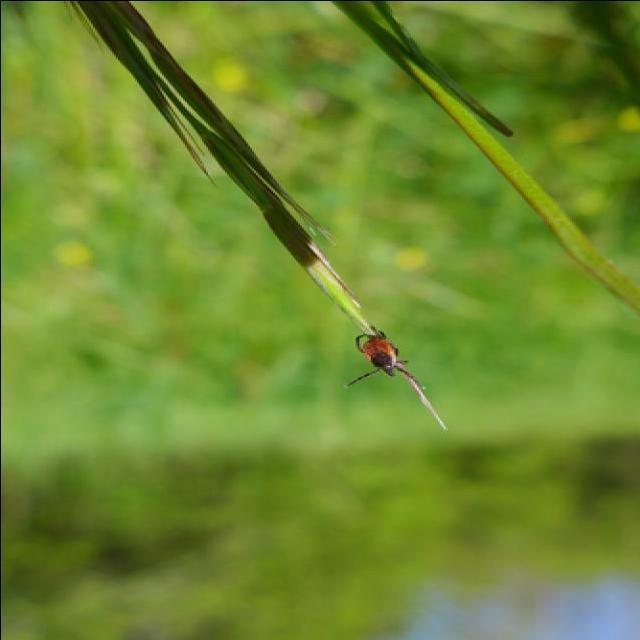Ixodes Ricinus-F: (343, 329, 431, 413)
